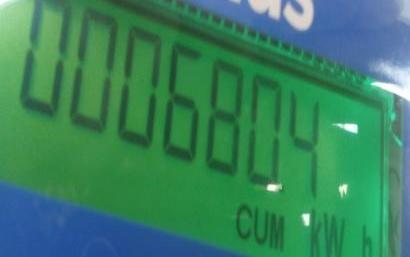.: (305, 203, 383, 257)
1: (21, 0, 71, 120), (70, 11, 118, 135), (118, 30, 163, 148), (247, 80, 285, 194)
5: (286, 96, 324, 202)
7: (164, 41, 205, 162)
9: (206, 60, 249, 179)
